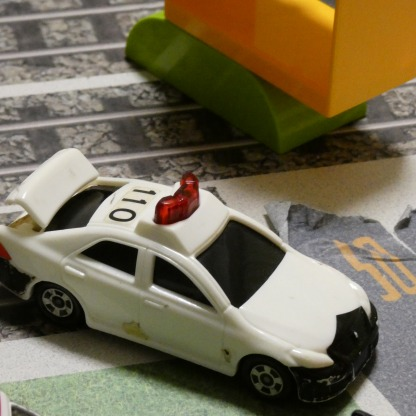car: (1, 142, 379, 409)
